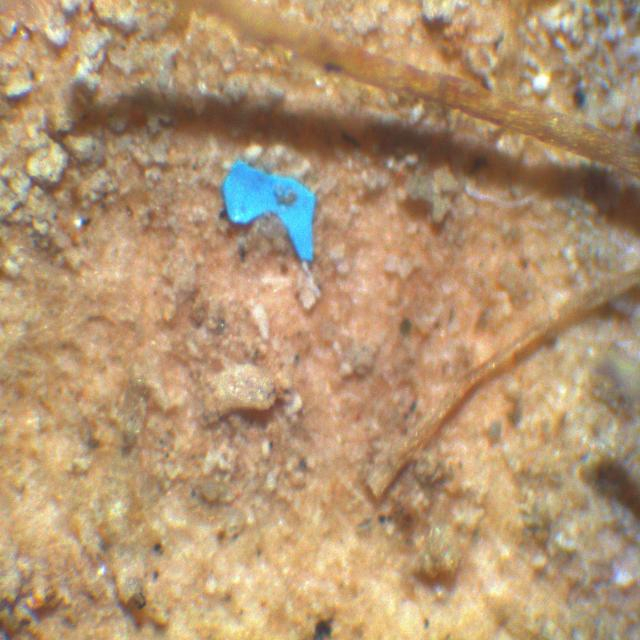microplastic: (205, 155, 338, 266)
